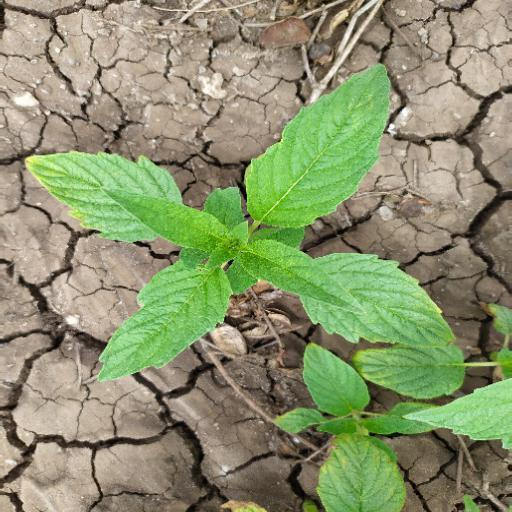crop: (20, 61, 456, 381), (272, 346, 458, 512)
